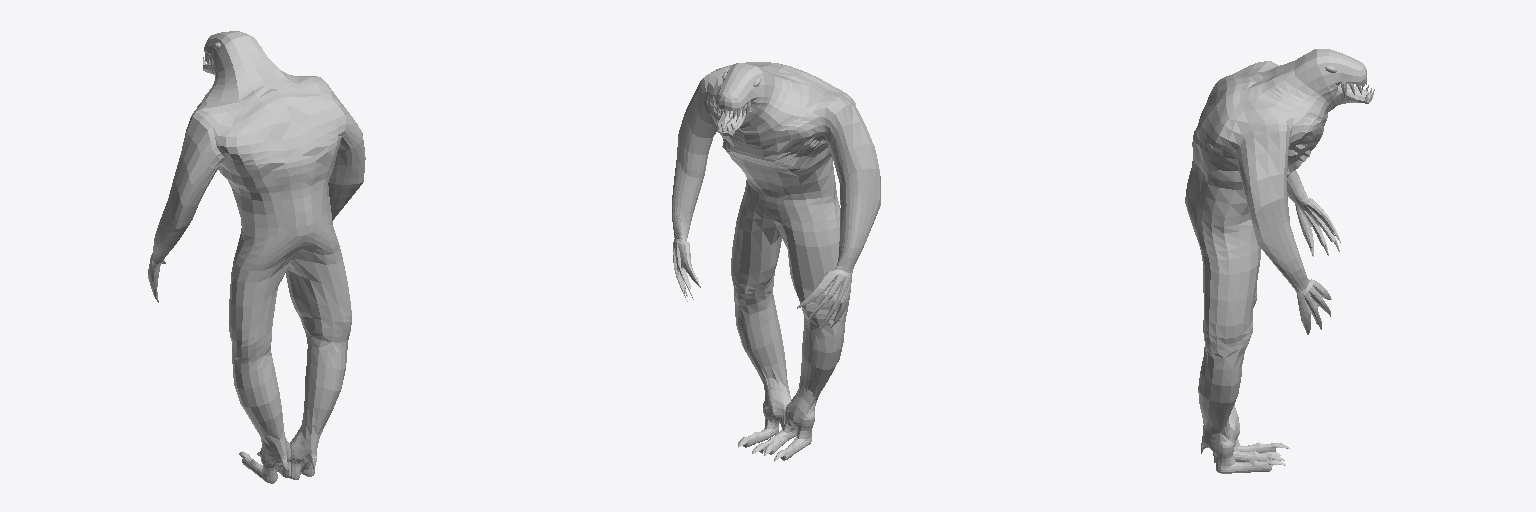
Rendered from Berserkerandar.0001.obj.
The picture shows the model from 3 angles: view 1: azimuth 30°, elevation 25°; view 2: azimuth 150°, elevation 25°; view 3: azimuth 270°, elevation 25°; orthographic projection.
Parts seen in each view (by area): view 1: polySurface27; view 2: polySurface27; view 3: polySurface27.
Part boxes in pixels (x1,y1,x2,y2): polySurface27: (148,31,365,483); polySurface27: (672,62,880,461); polySurface27: (1185,49,1374,473).
Size of the model in its own units: 11.77 by 23.7 by 9.94.